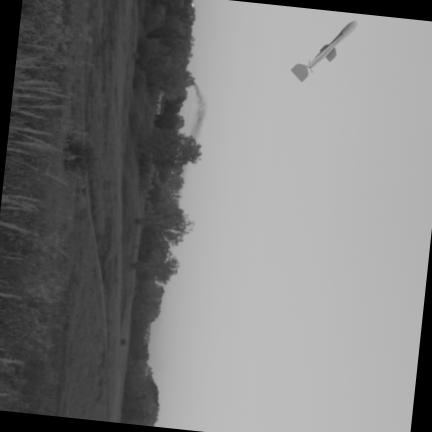Shahed: (290, 22, 355, 81)
